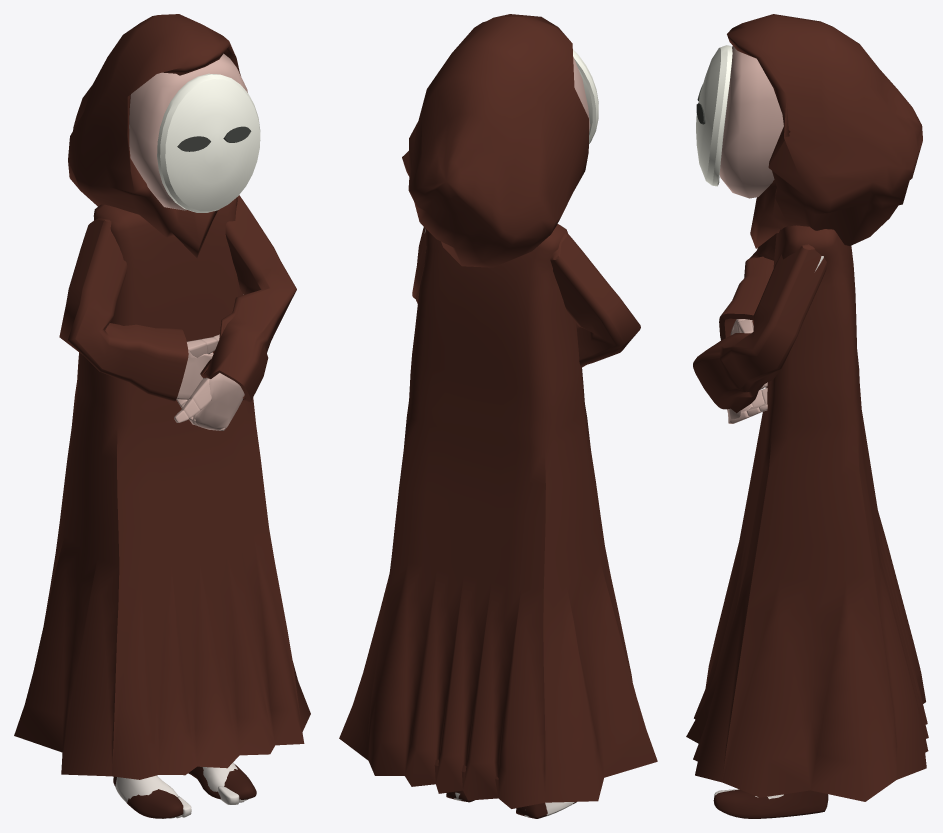
Rendered from Aries.fbx.
3 renders of one model, left to right at view 1: azimuth 30°, elevation 25°; view 2: azimuth 150°, elevation 25°; view 3: azimuth 270°, elevation 25°, orthographic.
Parts seen in each view (by area): view 1: polySurface3, Caputxa1, polySurface8, màscara, polySurface9, head_geo, R_palm_R_geo (×2), foot_R_geo, foot_L_geo, foot_R_geo1; view 2: polySurface3, Caputxa1, polySurface8, màscara; view 3: polySurface3, Caputxa1, polySurface9, head_geo, màscara, foot_L_geo, polySurface8.
Part boxes in pixels (<box>): polySurface3: <box>14,197,310,779</box>; Caputxa1: <box>68,14,240,257</box>; polySurface8: <box>59,218,188,401</box>; màscara: <box>157,73,260,212</box>; polySurface9: <box>200,195,296,401</box>; head_geo: <box>129,53,247,210</box>; R_palm_R_geo (×2): <box>176,351,244,430</box>; foot_R_geo: <box>113,776,183,818</box>; foot_L_geo: <box>188,764,256,799</box>; foot_R_geo1: <box>115,775,178,802</box>; polySurface3: <box>339,224,657,808</box>; Caputxa1: <box>402,14,588,267</box>; polySurface8: <box>550,232,640,367</box>; màscara: <box>573,49,598,143</box>; polySurface3: <box>686,225,928,801</box>; Caputxa1: <box>727,14,922,248</box>; polySurface9: <box>693,244,827,413</box>; head_geo: <box>719,46,783,198</box>; màscara: <box>696,45,732,186</box>; foot_L_geo: <box>713,789,828,818</box>; polySurface8: <box>719,233,776,340</box>.
Bounding box in the file's own units: 1.24 × 3.48 × 0.9859.
